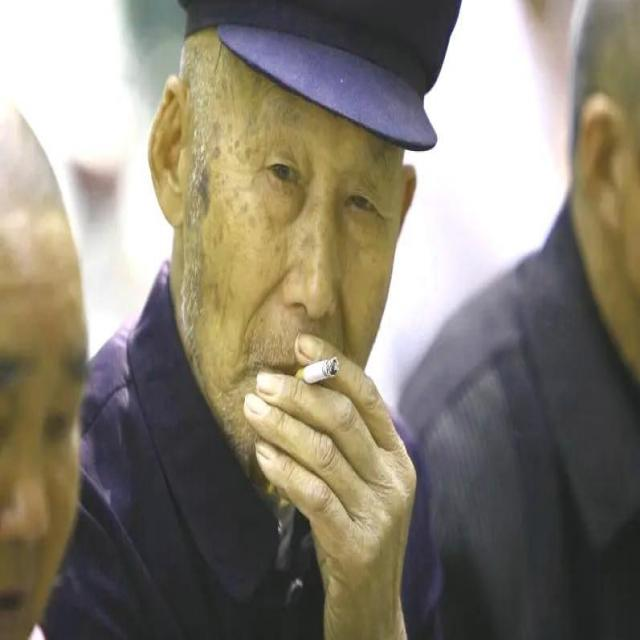cigarette: (284, 333, 350, 408)
